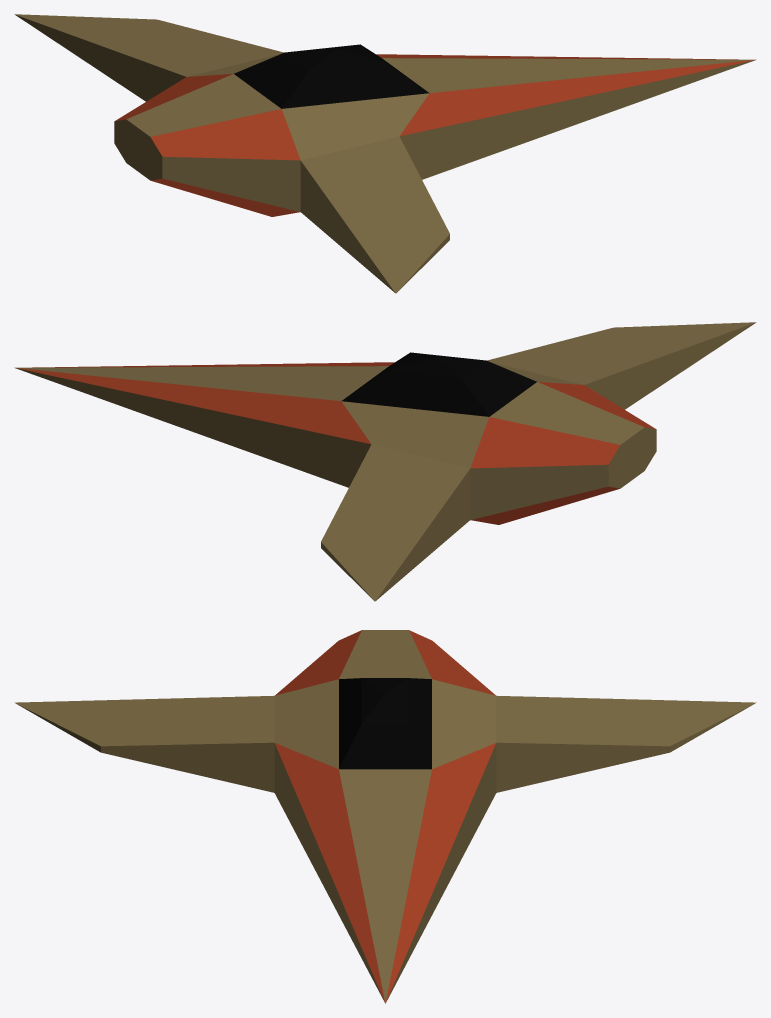
File: Amadeus.fbx
3 renders of one model, top to bottom at view 1: azimuth 30°, elevation 25°; view 2: azimuth 150°, elevation 25°; view 3: azimuth 270°, elevation 25°, orthographic. The views are drawn at different scales.
Parts seen in each view (by area): view 1: Cube; view 2: Cube; view 3: Cube.
Boxes of the visible parts, x1,y1,x2,y2 form: Cube: (14,14,756,293); Cube: (14,322,756,601); Cube: (14,630,756,1003).
Bounding box in the file's own units: 800 × 154 × 855.
